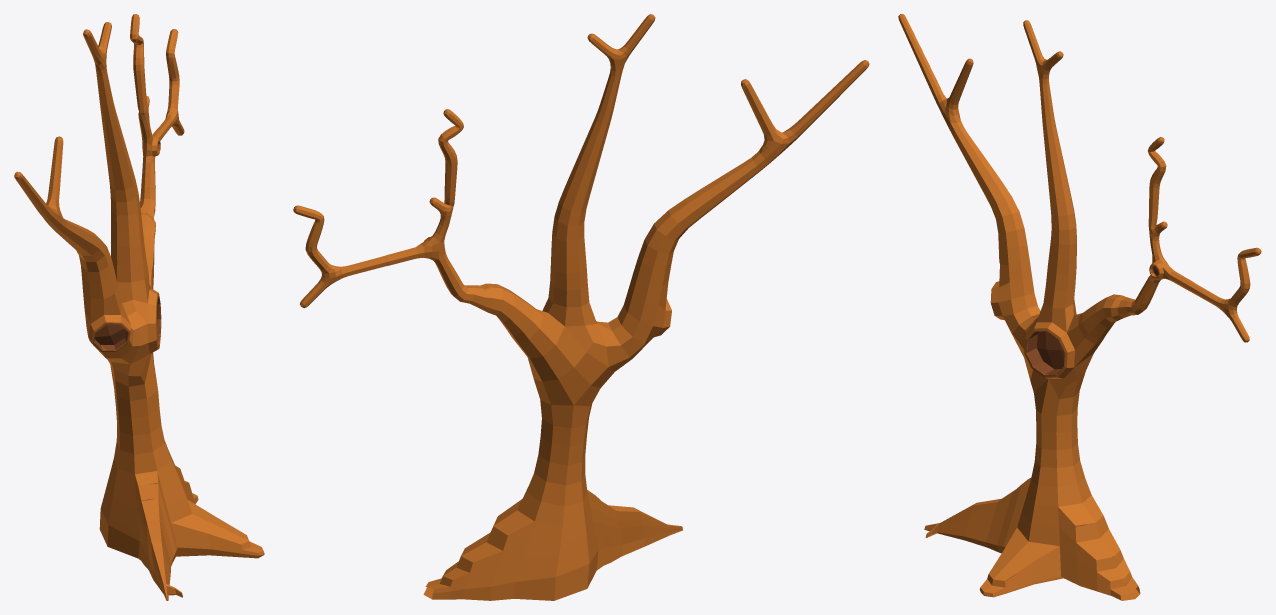
The model's file is UglyTree.fbx.
The picture shows the model from 3 angles, left to right: view 1: azimuth 30°, elevation 25°; view 2: azimuth 150°, elevation 25°; view 3: azimuth 270°, elevation 25°; orthographic projection. The views are drawn at different scales.
Parts seen in each view (by area): view 1: Cube; view 2: Cube; view 3: Cube.
Part boxes in pixels (<box>): Cube: <box>14,14,264,600</box>; Cube: <box>293,14,869,600</box>; Cube: <box>898,14,1261,600</box>.
Size of the model in its own units: 421 by 620 by 402.
1 material, 1 textured.
